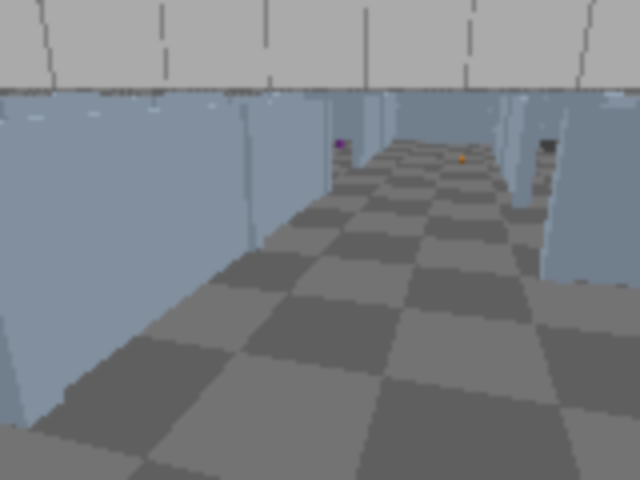obstacle: (540, 139, 564, 151)
